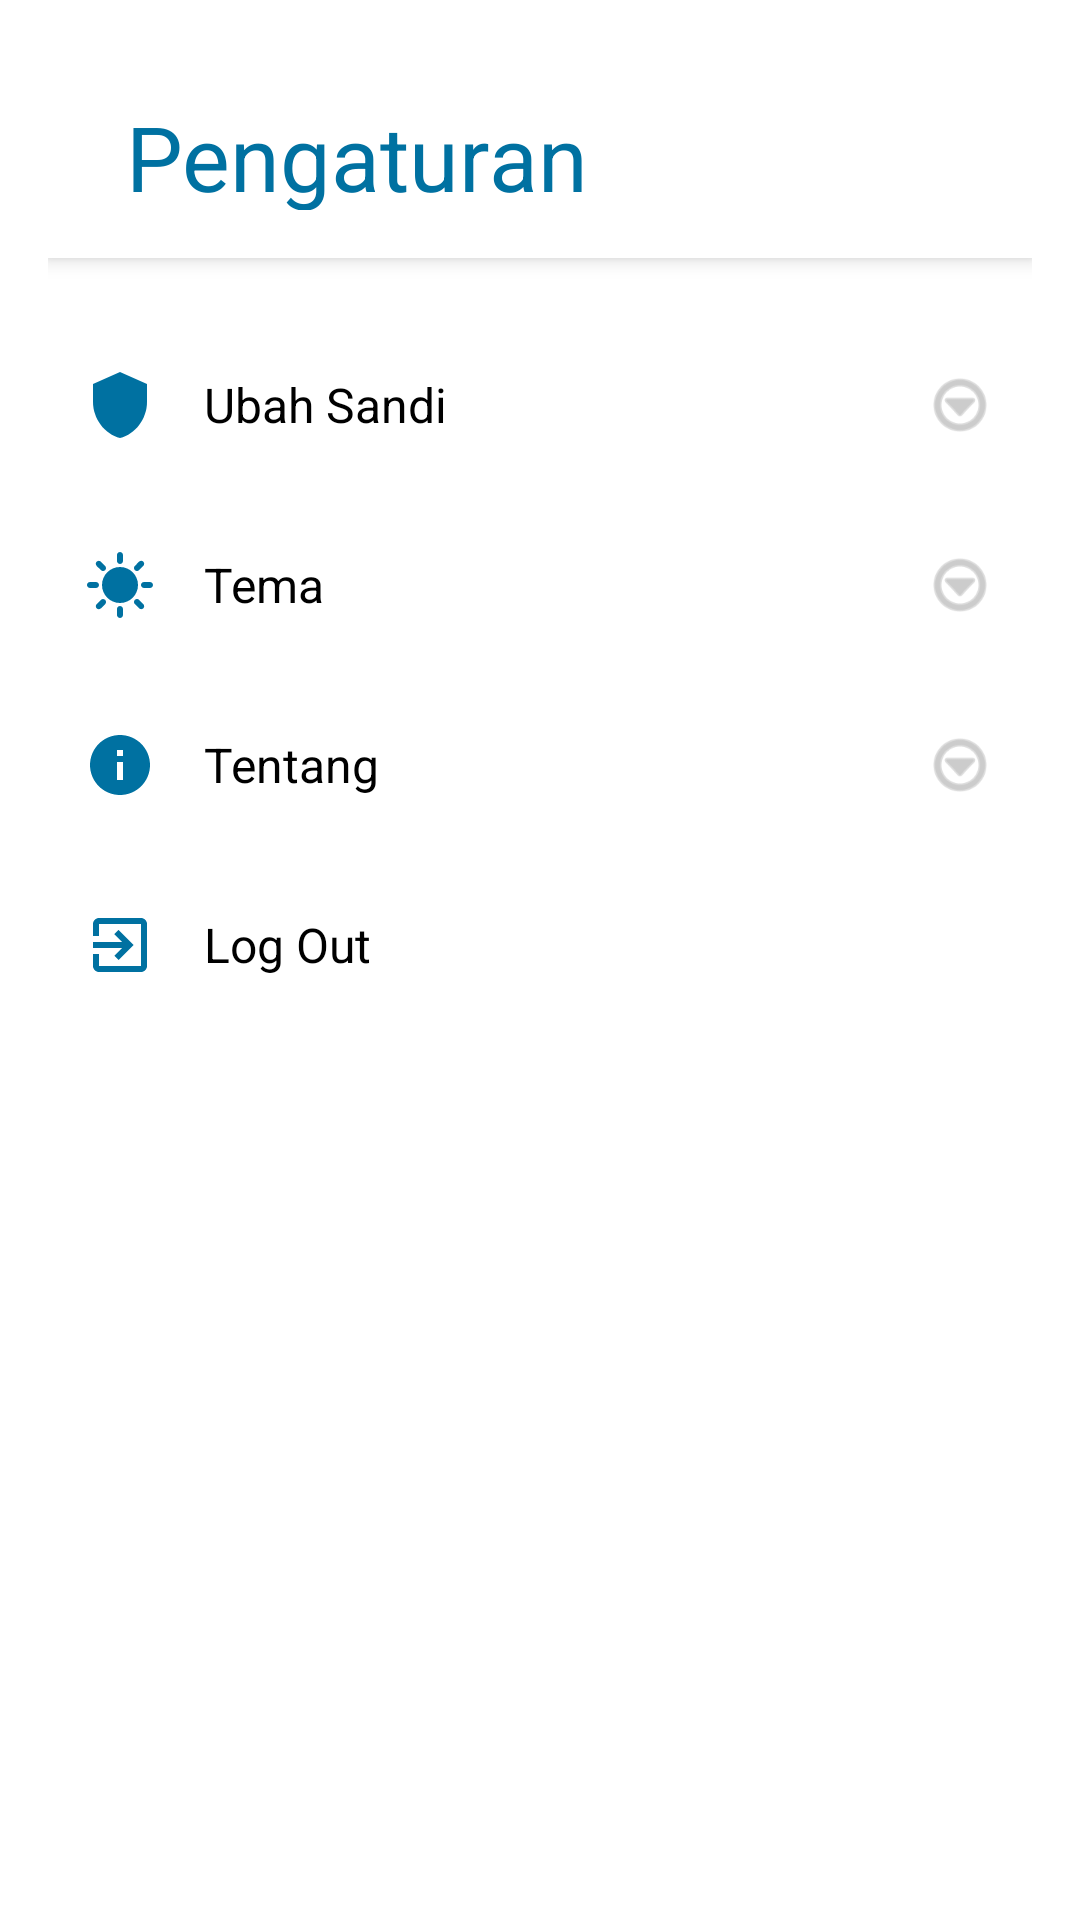

Named icons in this screenshot (1080px×1920px) and their centers, point (x, y):
keamanan: point (120, 405)
